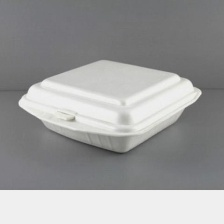foam_box: (15, 55, 205, 156)
